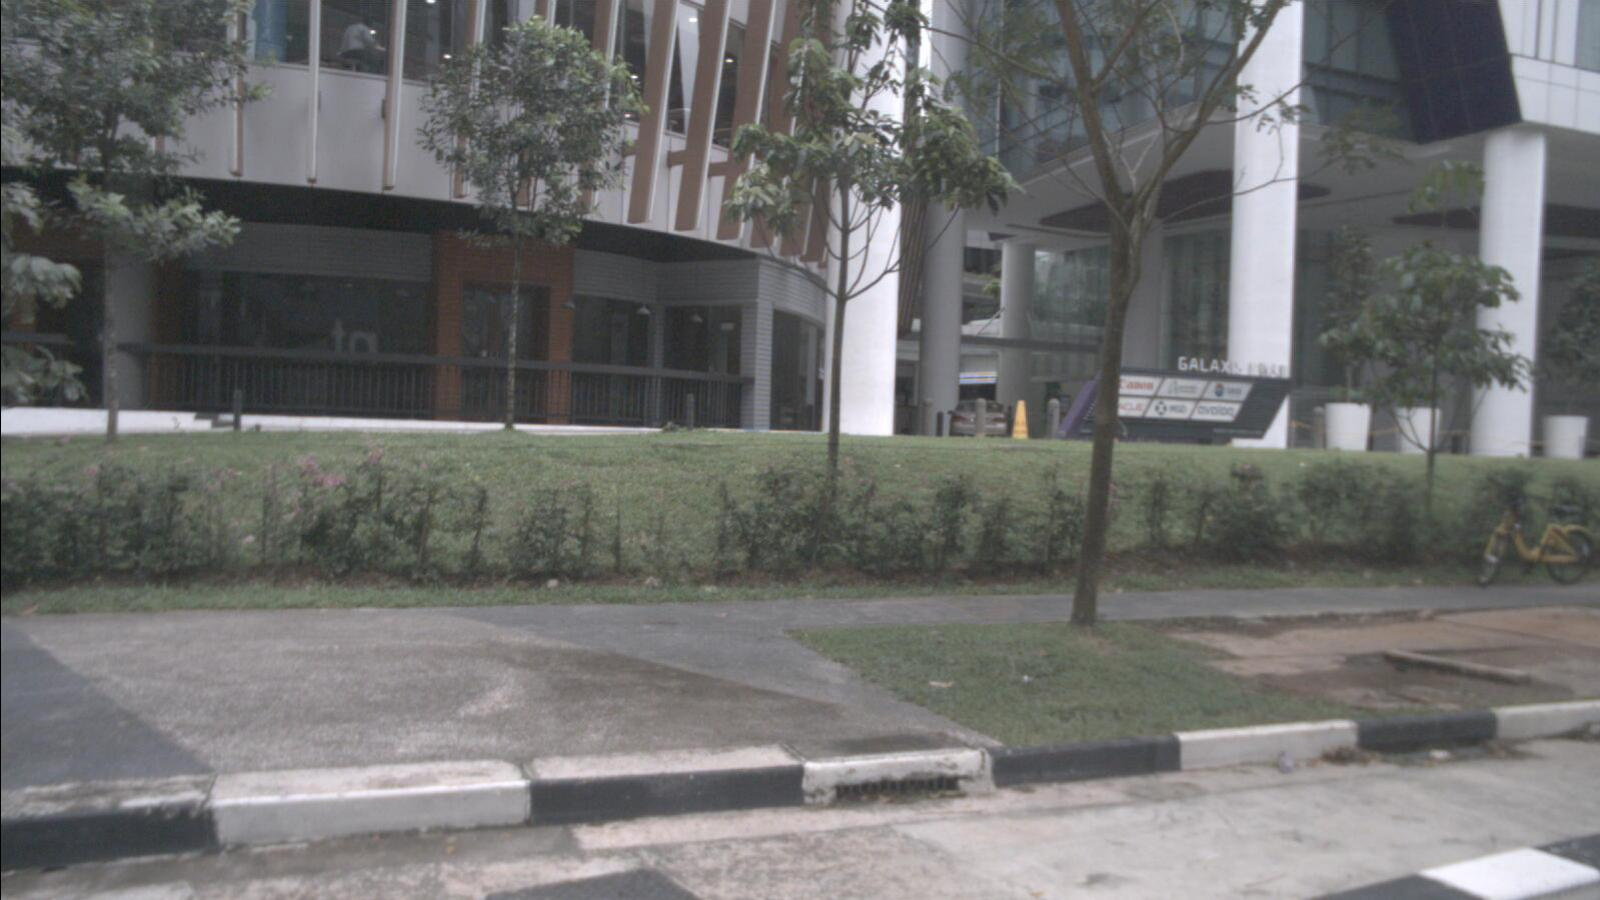human.pedestrian.adult-pedestrian.moving: (1041, 382, 1062, 441)
human.pedestrian.adult-pedestrian.standing: (1003, 406, 1014, 439)
